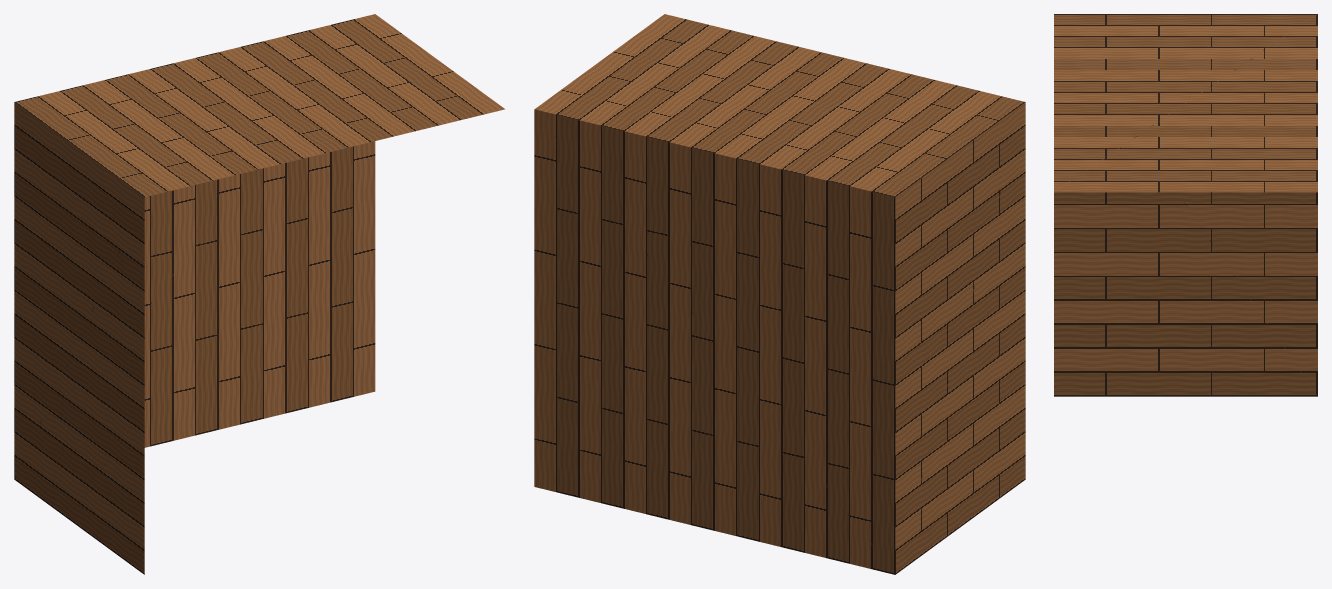
The picture shows the model from 3 angles, left to right: view 1: azimuth 30°, elevation 25°; view 2: azimuth 150°, elevation 25°; view 3: azimuth 270°, elevation 25°; orthographic projection.
Size of the model in its own units: 4 by 4 by 2.5.
Materials: 1 (1 with a texture image).
